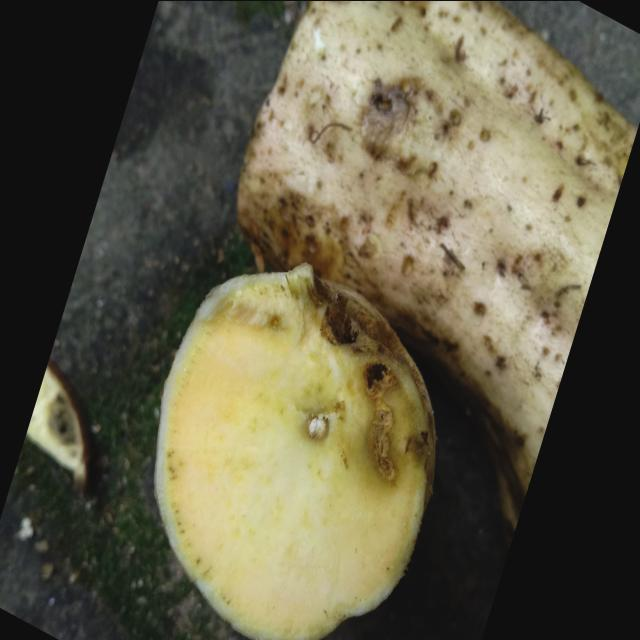Sick Sweet Potato_Tuber Rot: (155, 263, 435, 638)
